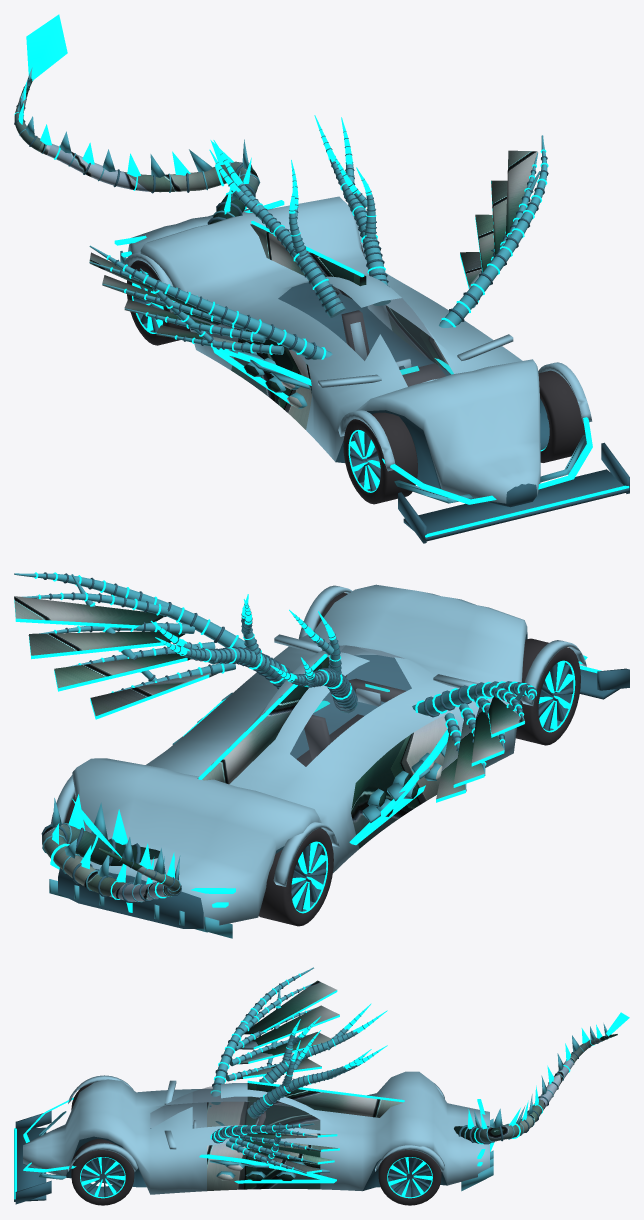
The model's file is dragon_car_b_azure.glb.
The picture shows the model from 3 angles, top to bottom: view 1: azimuth 30°, elevation 25°; view 2: azimuth 150°, elevation 25°; view 3: azimuth 270°, elevation 25°; orthographic projection. The views are drawn at different scales.
Parts seen in each view (by area): view 1: Body_Chassis, Dragon_Wings, Dragon_Tail, Dragon_Horns, Wheel_FL, Wheel_FR, Wheel_RL; view 2: Body_Chassis, Dragon_Wings, Dragon_Tail, Dragon_Horns, Wheel_RL, Wheel_FL; view 3: Body_Chassis, Dragon_Wings, Dragon_Tail, Dragon_Horns, Wheel_FR, Wheel_RR.
Part boxes in pixels (<box>): Body_Chassis: <box>114,196,629,543</box>; Dragon_Wings: <box>89,135,548,359</box>; Dragon_Tail: <box>14,14,260,224</box>; Dragon_Horns: <box>209,115,390,317</box>; Wheel_FL: <box>343,412,417,504</box>; Wheel_FR: <box>538,370,585,462</box>; Wheel_RL: <box>127,260,190,345</box>; Body_Chassis: <box>49,584,629,938</box>; Dragon_Wings: <box>14,572,536,802</box>; Dragon_Tail: <box>41,794,181,902</box>; Dragon_Horns: <box>150,594,357,713</box>; Wheel_RL: <box>258,828,333,926</box>; Wheel_FL: <box>516,638,580,745</box>; Body_Chassis: <box>14,1071,494,1204</box>; Dragon_Wings: <box>210,967,339,1173</box>; Dragon_Tail: <box>454,1012,629,1144</box>; Dragon_Horns: <box>247,1003,387,1118</box>; Wheel_FR: <box>71,1138,134,1205</box>; Wheel_RR: <box>378,1150,441,1205</box>.
Bounding box in the file's own units: 4.13 × 1.82 × 6.86.
Materials: 8 (1 with a texture image).
